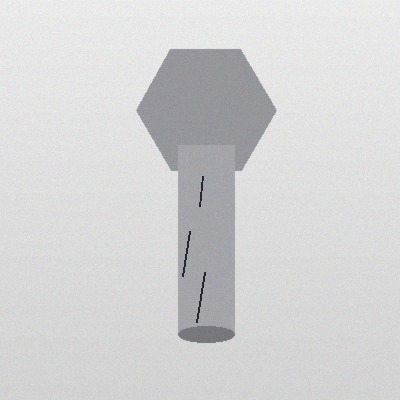scratch: (190, 268, 210, 326), (176, 227, 195, 280), (193, 172, 208, 210)
